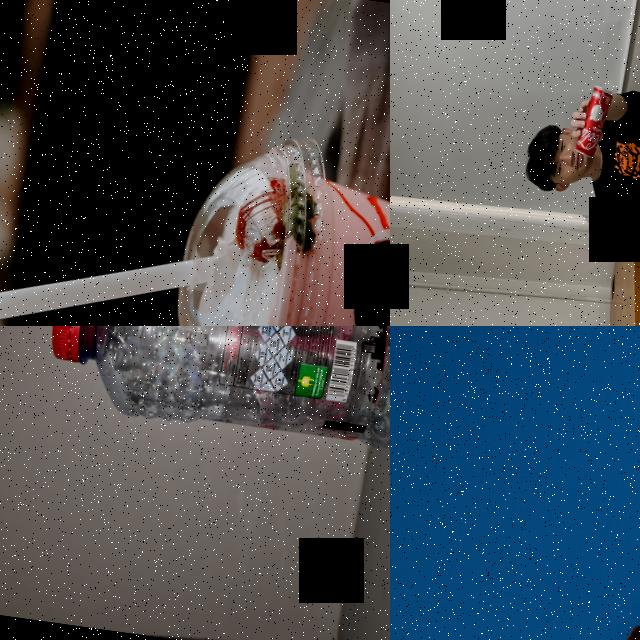bottle: (40, 326, 390, 466)
can: (573, 82, 615, 160)
cup: (156, 112, 390, 326)
